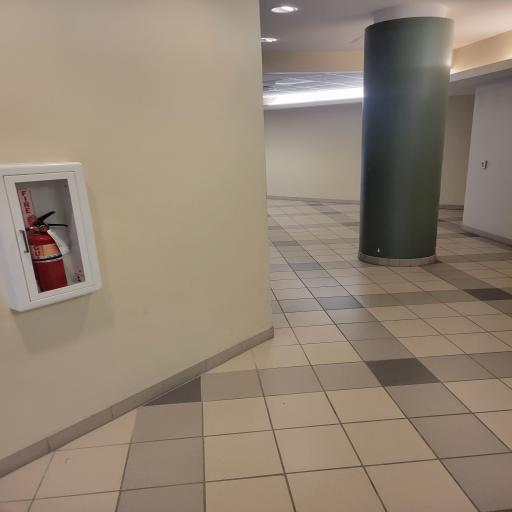fire extinguisher: (0, 154, 112, 320)
